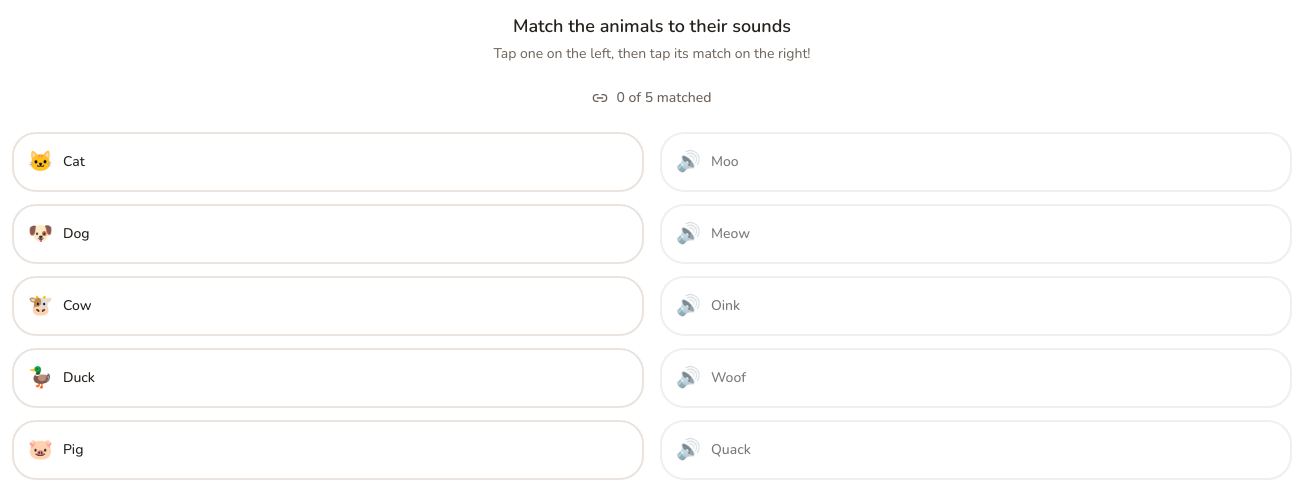
MatchingPairs › interactions › clicking a right item after selecting correct left completes a match
The width and height of the screenshot is (1304, 497).
Select left "Cat" (id: l1)
Click the button "🐱 Cat".
click(40, 162)  # box [12, 132, 644, 192]
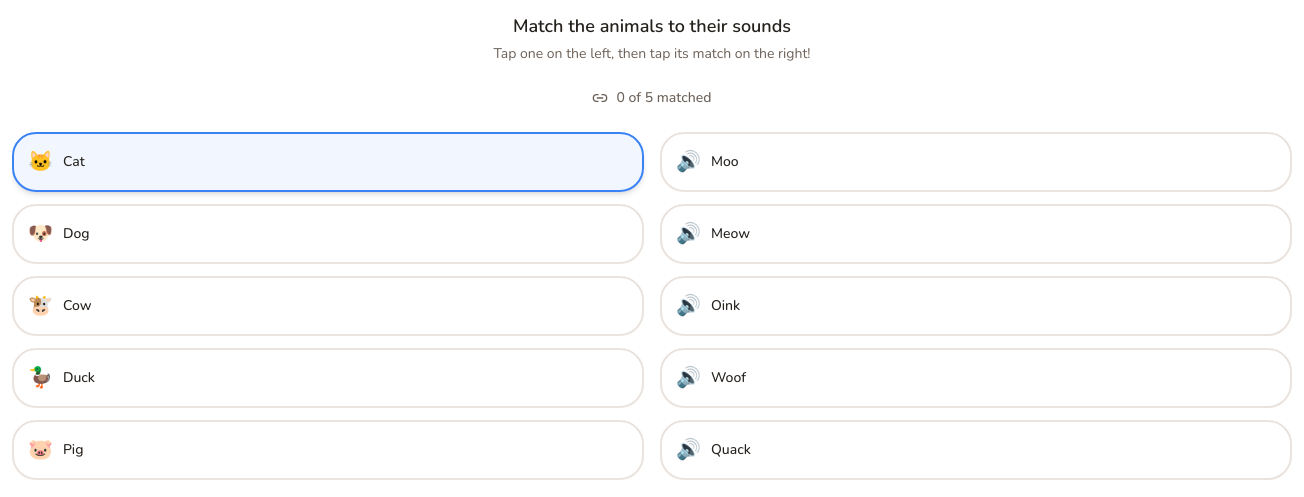
Click right "Meow" (id: r1) — correct match for Cat
Click the button "🔊 Meow".
click(730, 234)  # box [660, 204, 1292, 264]
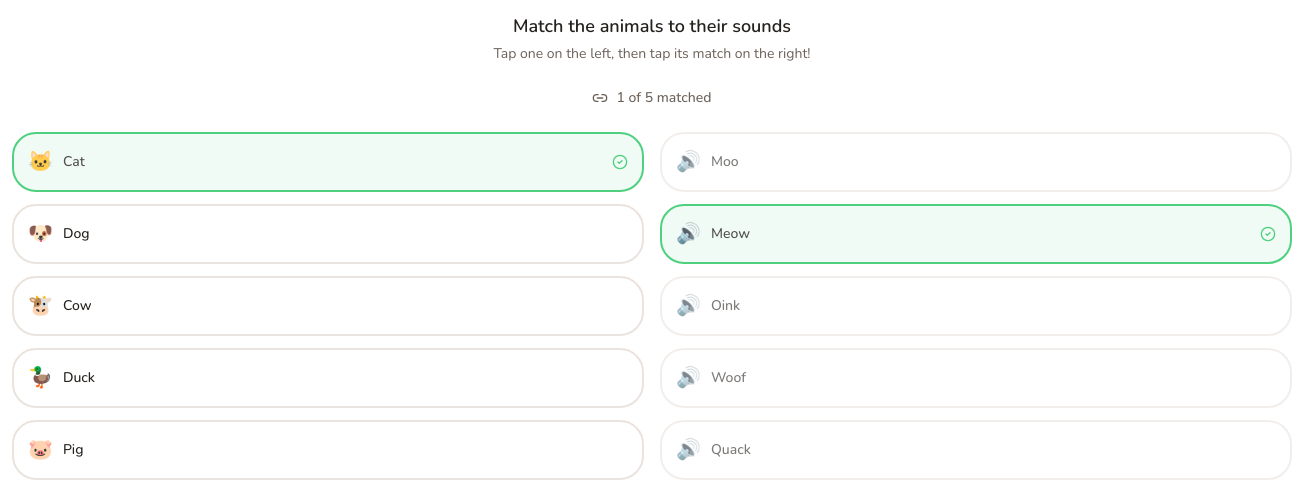
Expected: the text "1 of 5 matched" is shown, [616, 88, 712, 108]
